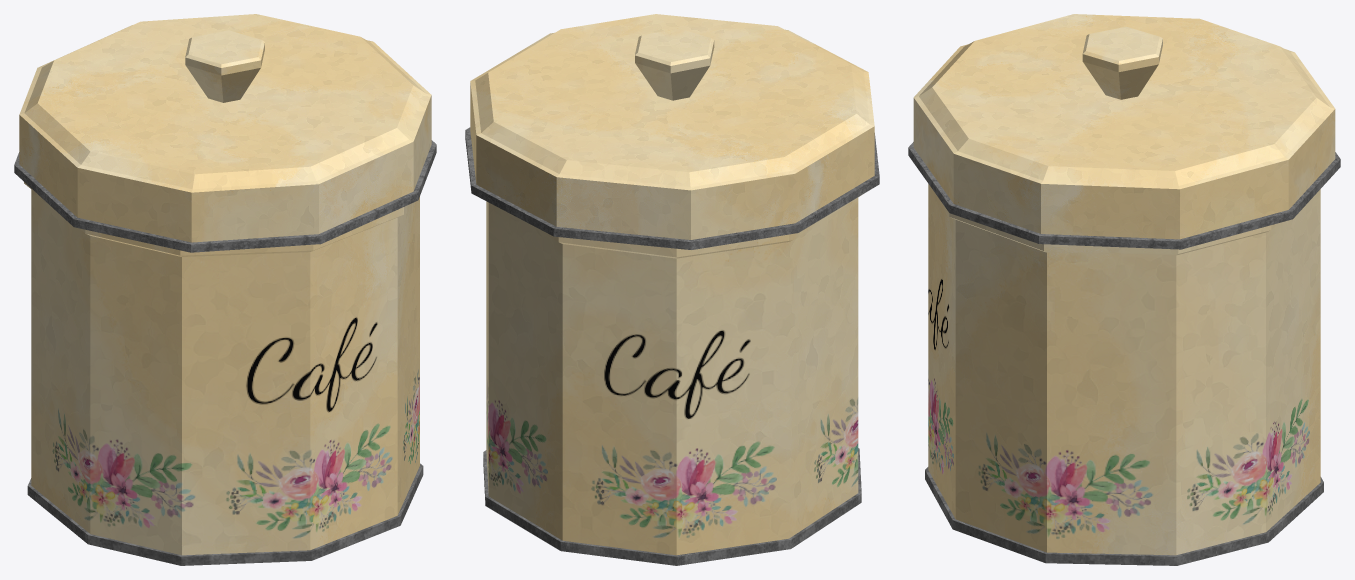
File: COFFEE CANISTER FINAL.fbx
3 views of the same model, side by side, from view 1: azimuth 30°, elevation 25°; view 2: azimuth 150°, elevation 25°; view 3: azimuth 270°, elevation 25° (orthographic).
Visible parts, largest first — view 1: pCube7, pCube8; view 2: pCube7, pCube8; view 3: pCube7, pCube8.
Part boxes in pixels (x1,y1,x2,y2): pCube7: [24, 182, 423, 565]; pCube8: [14, 14, 436, 252]; pCube7: [483, 196, 861, 565]; pCube8: [465, 14, 879, 249]; pCube7: [925, 184, 1323, 565]; pCube8: [908, 14, 1340, 249].
Size of the model in its own units: 24.44 by 28.45 by 25.27.
